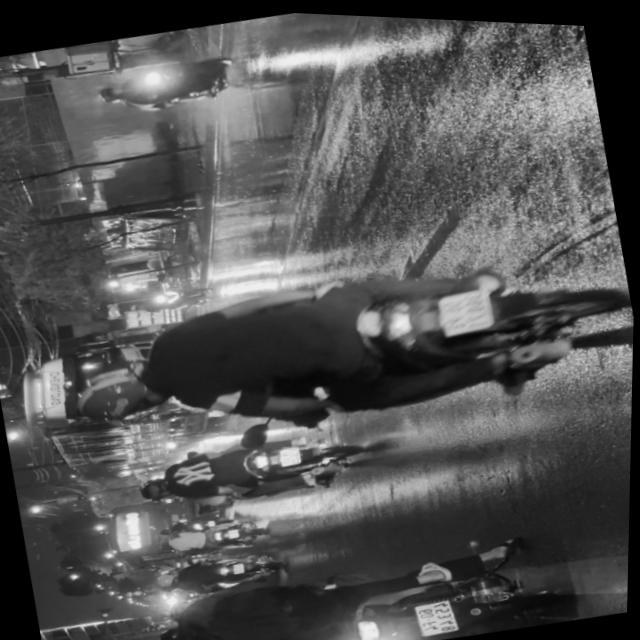helmet: (74, 357, 173, 426), (136, 472, 179, 502), (131, 633, 190, 640)
licenseplate: (53, 204, 636, 478), (110, 510, 574, 640), (123, 406, 389, 527)
nohelmet: (436, 280, 494, 333), (415, 593, 459, 633), (279, 442, 302, 463)
